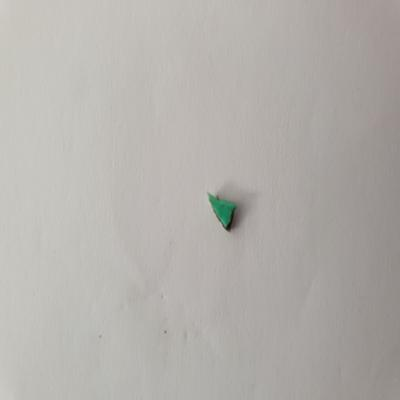plastic: (202, 188, 245, 237)
